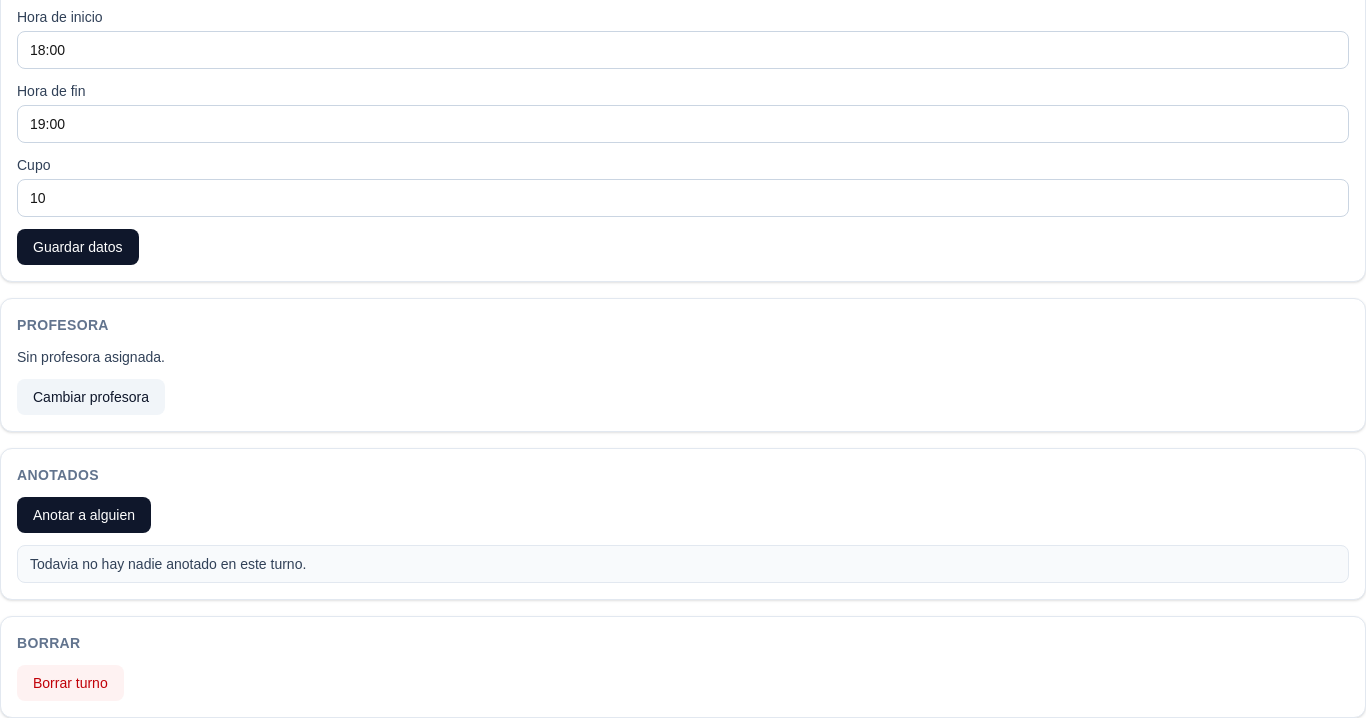
Scenario: borrar el turno › borrar confirma NOMBRANDO el turno
(page scrolled)
Step 1. Click the button "Borrar turno" → (70,683), box [17,665,124,701]
(page scrolled)
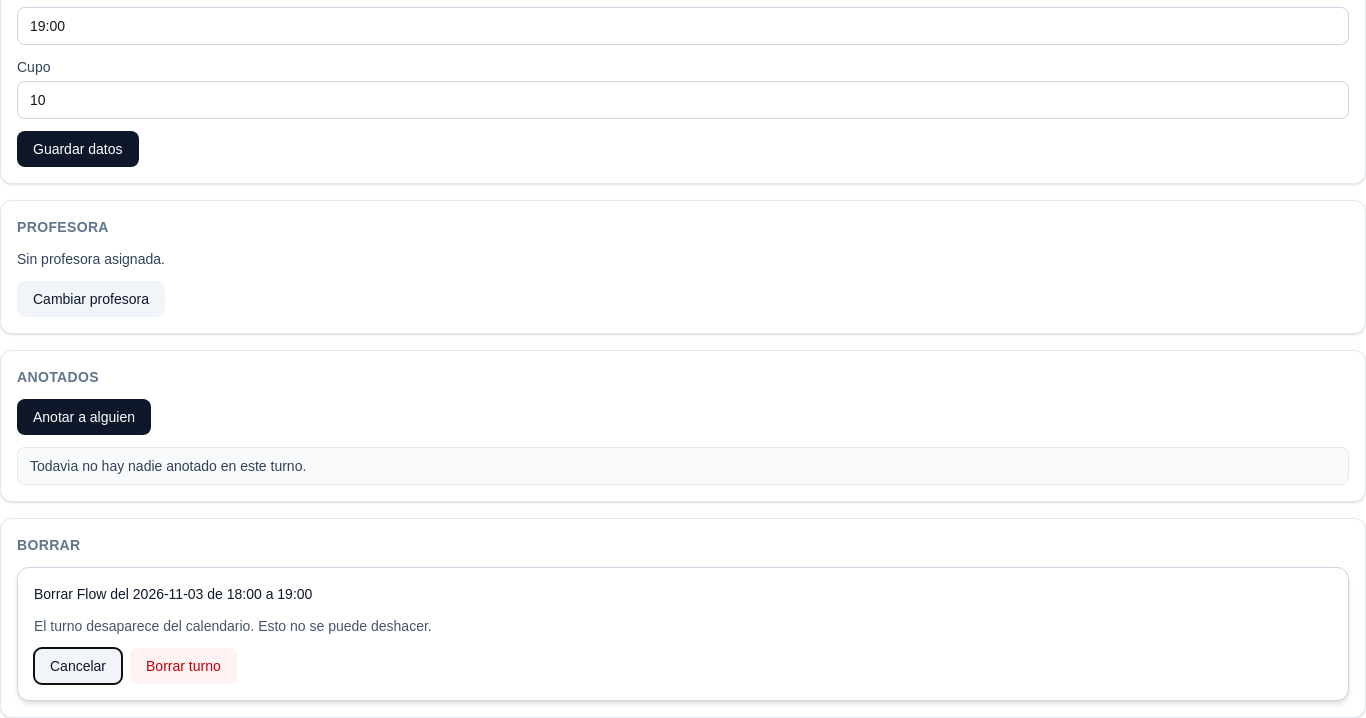
Expected: the dialog shows "Flow", [34,586,312,602]
Expected: the dialog shows "2026-11-03", [34,586,312,602]
Expected: the dialog shows "18:00", [34,586,312,602]
